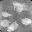people: (14, 1, 23, 14), (9, 21, 18, 30), (1, 19, 11, 27), (22, 18, 32, 25), (2, 11, 11, 18)
